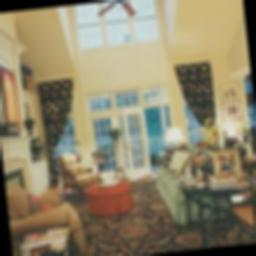Puerta: (125, 107, 151, 181)
